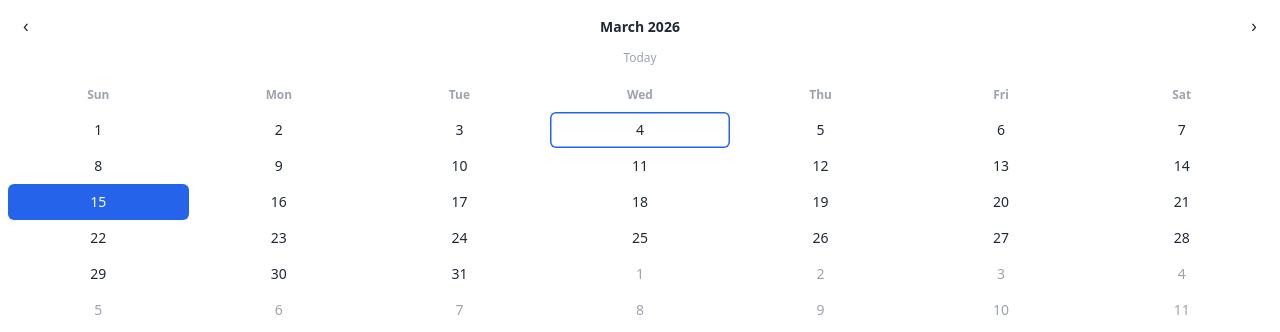
Test case: CalendarWidget quick navigation › selects year from year picker and returns to month picker
The image size is (1280, 332).
Open month picker
Click the button with aria-label "choose month and year". click: [640, 27]
box: [592, 16, 688, 38]
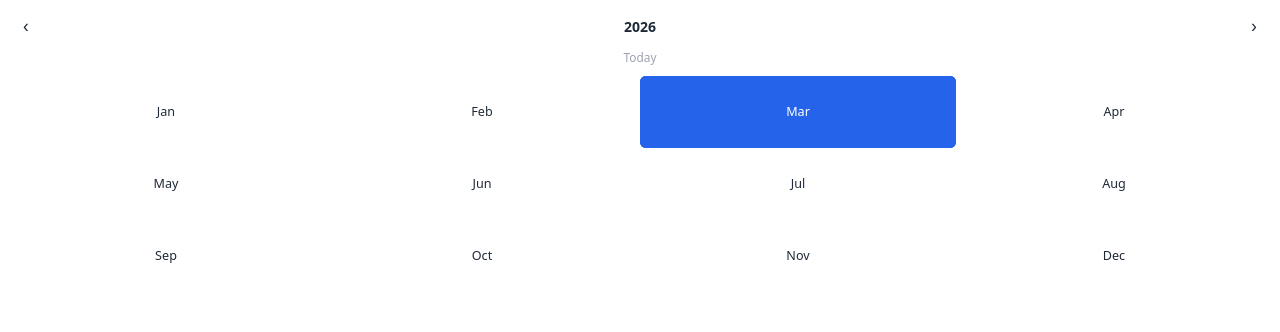
Open year picker
Click the button named "choose year". click: [640, 27]
box: [616, 16, 664, 38]
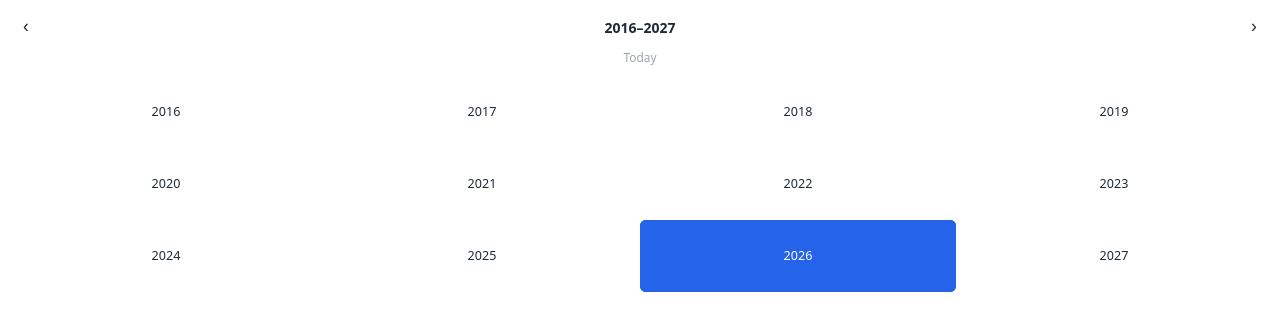
Click 2020 (within the 2016-2027 range)
Click the text "2020". click: [166, 184]
box: [8, 148, 324, 220]
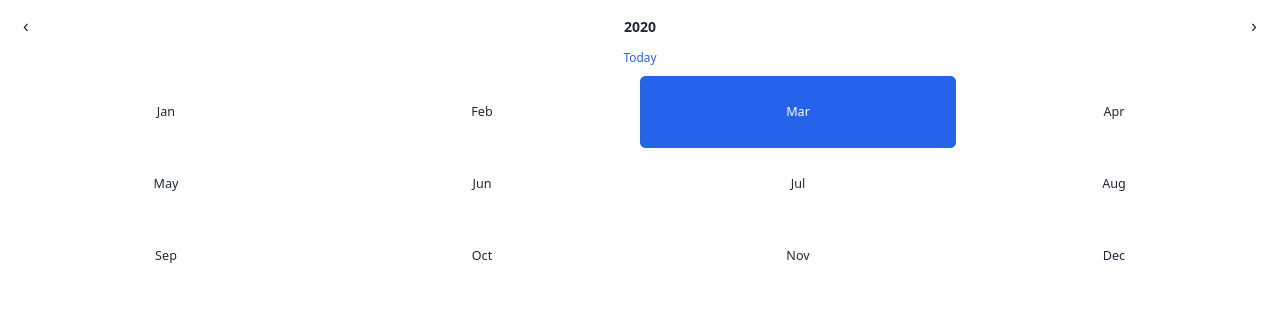
Result: the table named "month picker, 2020" is shown
